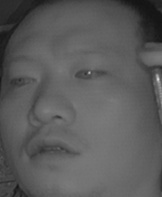eye: (73, 62, 108, 85), (7, 70, 40, 92)
mouth: (26, 134, 80, 166)
